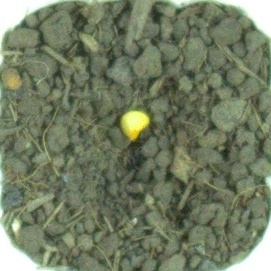pepper seed: (39, 38, 193, 181)
